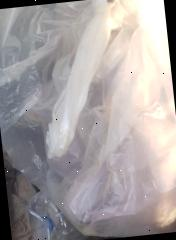plastic: (0, 0, 176, 191), (22, 185, 90, 240)
